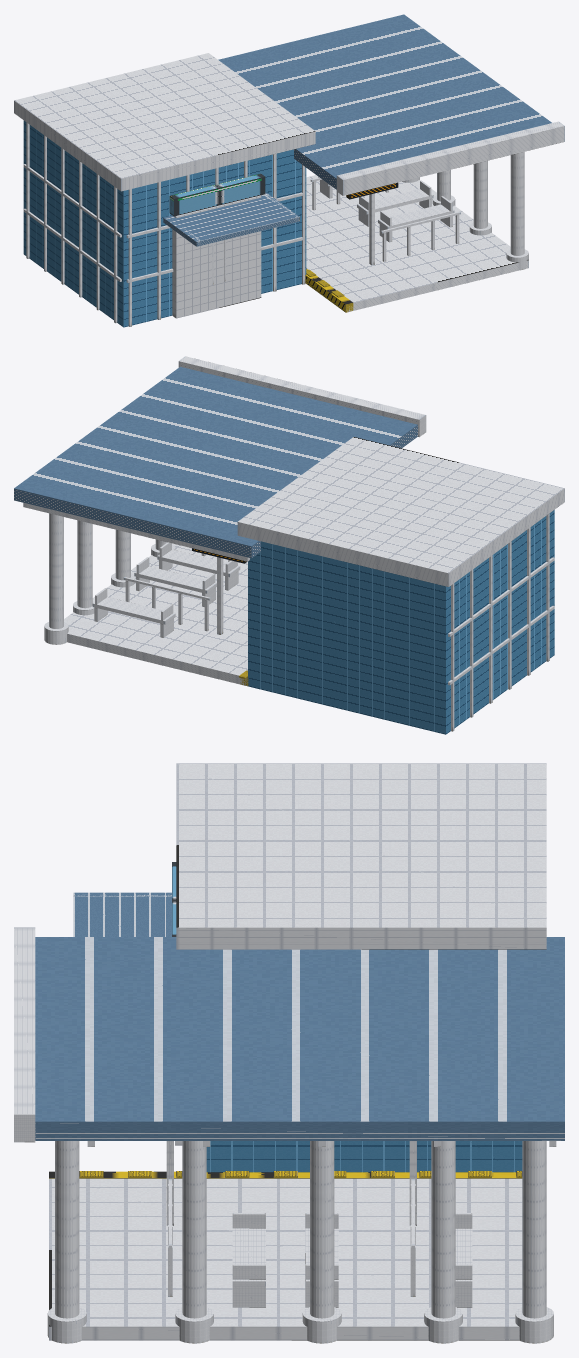
The model's file is building_bus_station_var1_modern.glb.
3 renders of one model, top to bottom at view 1: azimuth 30°, elevation 25°; view 2: azimuth 150°, elevation 25°; view 3: azimuth 270°, elevation 25°, orthographic. The views are drawn at different scales.
Parts seen in each view (by area): view 1: Building_Bus_Station_Var1_Modern; view 2: Building_Bus_Station_Var1_Modern; view 3: Building_Bus_Station_Var1_Modern.
Boxes of the visible parts, left/top/right/bottom form: Building_Bus_Station_Var1_Modern: left=14, top=14, right=564, bottom=327; Building_Bus_Station_Var1_Modern: left=14, top=356, right=564, bottom=734; Building_Bus_Station_Var1_Modern: left=14, top=763, right=564, bottom=1343.
Size of the model in its own units: 13.05 by 4.8 by 9.07.
1 material, 1 textured.
